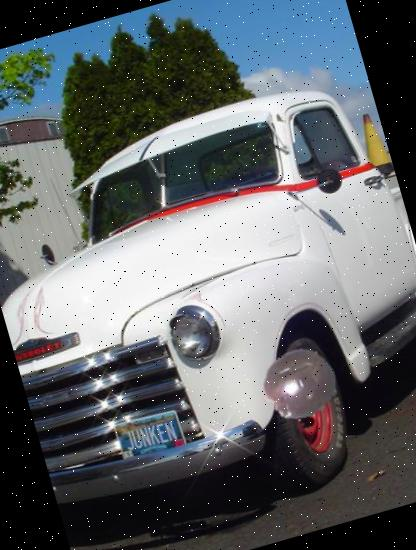Passion: (252, 338, 344, 430)
